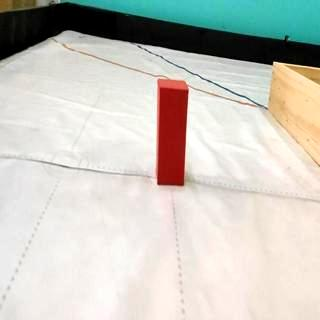redbox: (156, 78, 188, 188)
